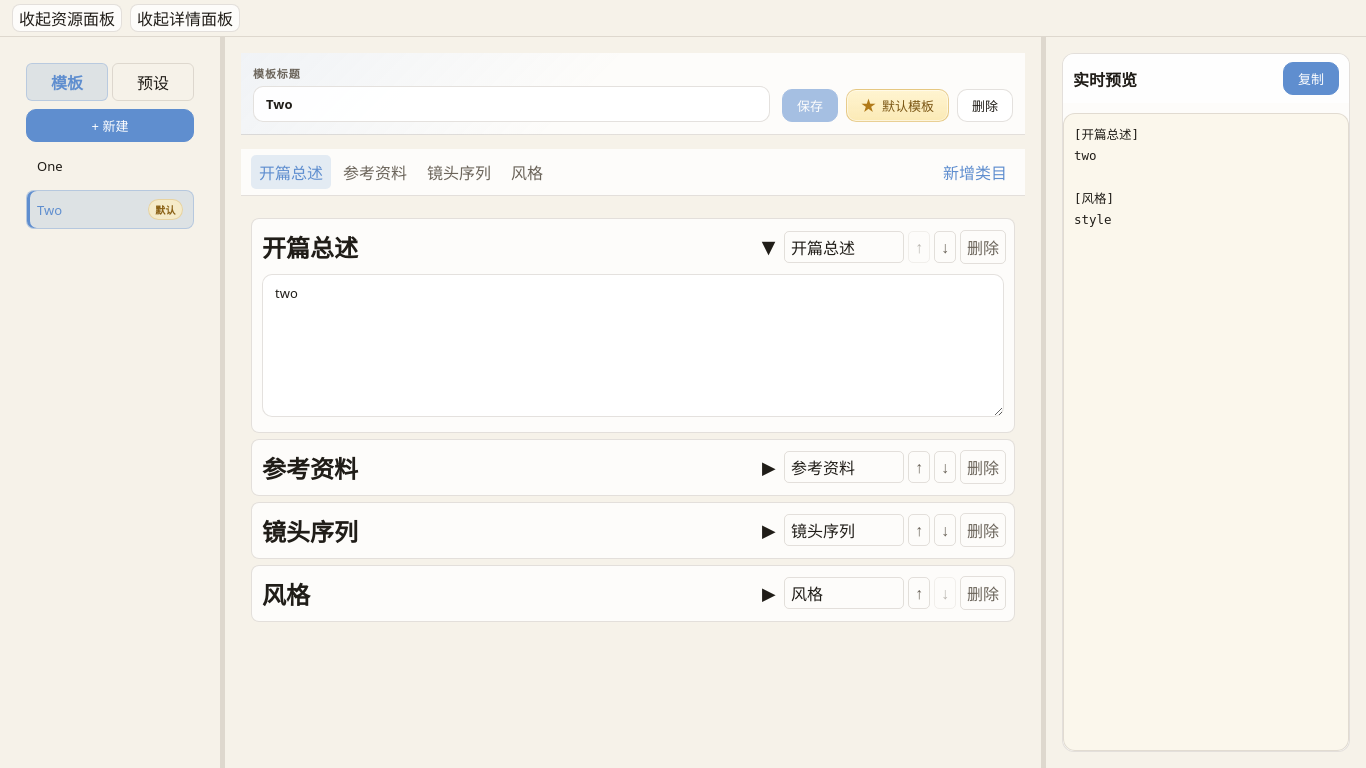
Test: Seedance2 workspace › clears the default setting when the default template is deleted
Expected: the field labelled "模板标题" holds "Two", [253,86,770,122]
Click the 1st button "删除": (985, 106) [957,89,1013,122]
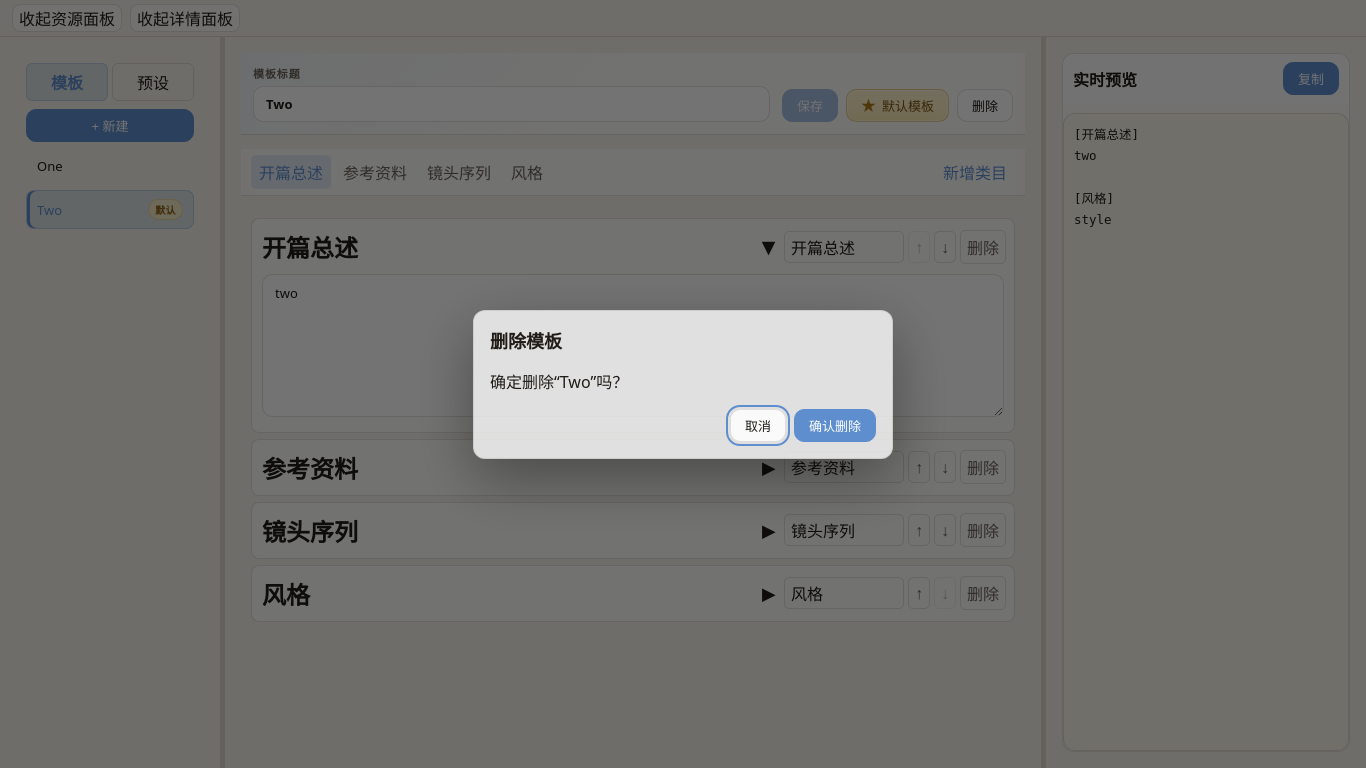
Click the button "确认删除": (835, 425) [794,408,876,442]
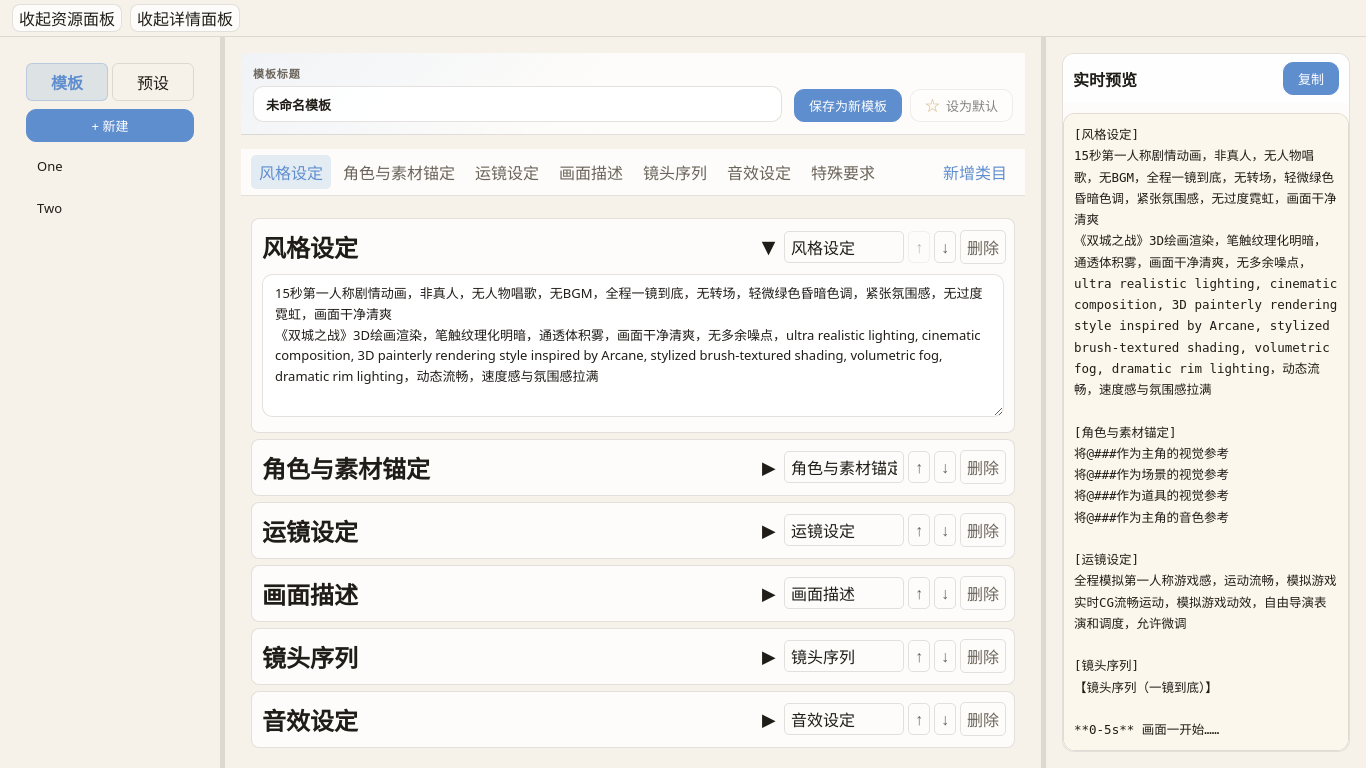
Expected: the button "☆ 设为默认" is disabled, [910,89,1013,122]
Expected: the field labelled "模板标题" holds "未命名模板", [253,86,782,122]
